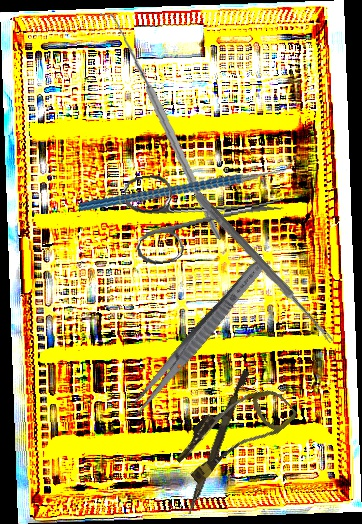Cannula: (168, 369, 299, 496)
Chopper: (78, 123, 298, 243)
Dressing Forceps: (126, 253, 271, 421)
Hook Surgical: (80, 13, 241, 240)
Iris Scissors: (122, 157, 290, 268)
Pusher: (186, 368, 250, 517)
Surgical Spoon: (192, 191, 337, 345)
